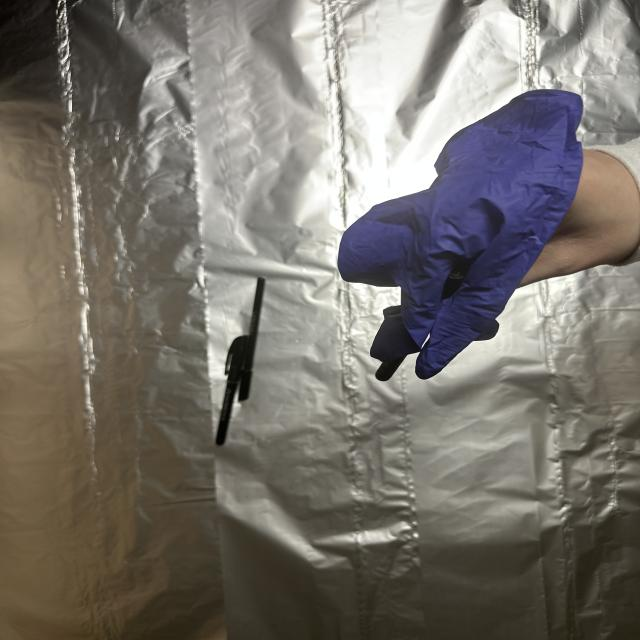glove_not_fitted: (337, 85, 640, 379)
